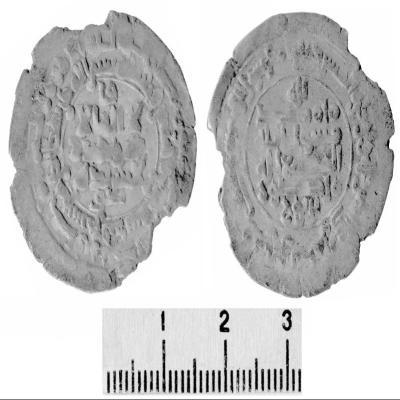numismatics: (208, 14, 394, 296), (9, 11, 196, 291)
